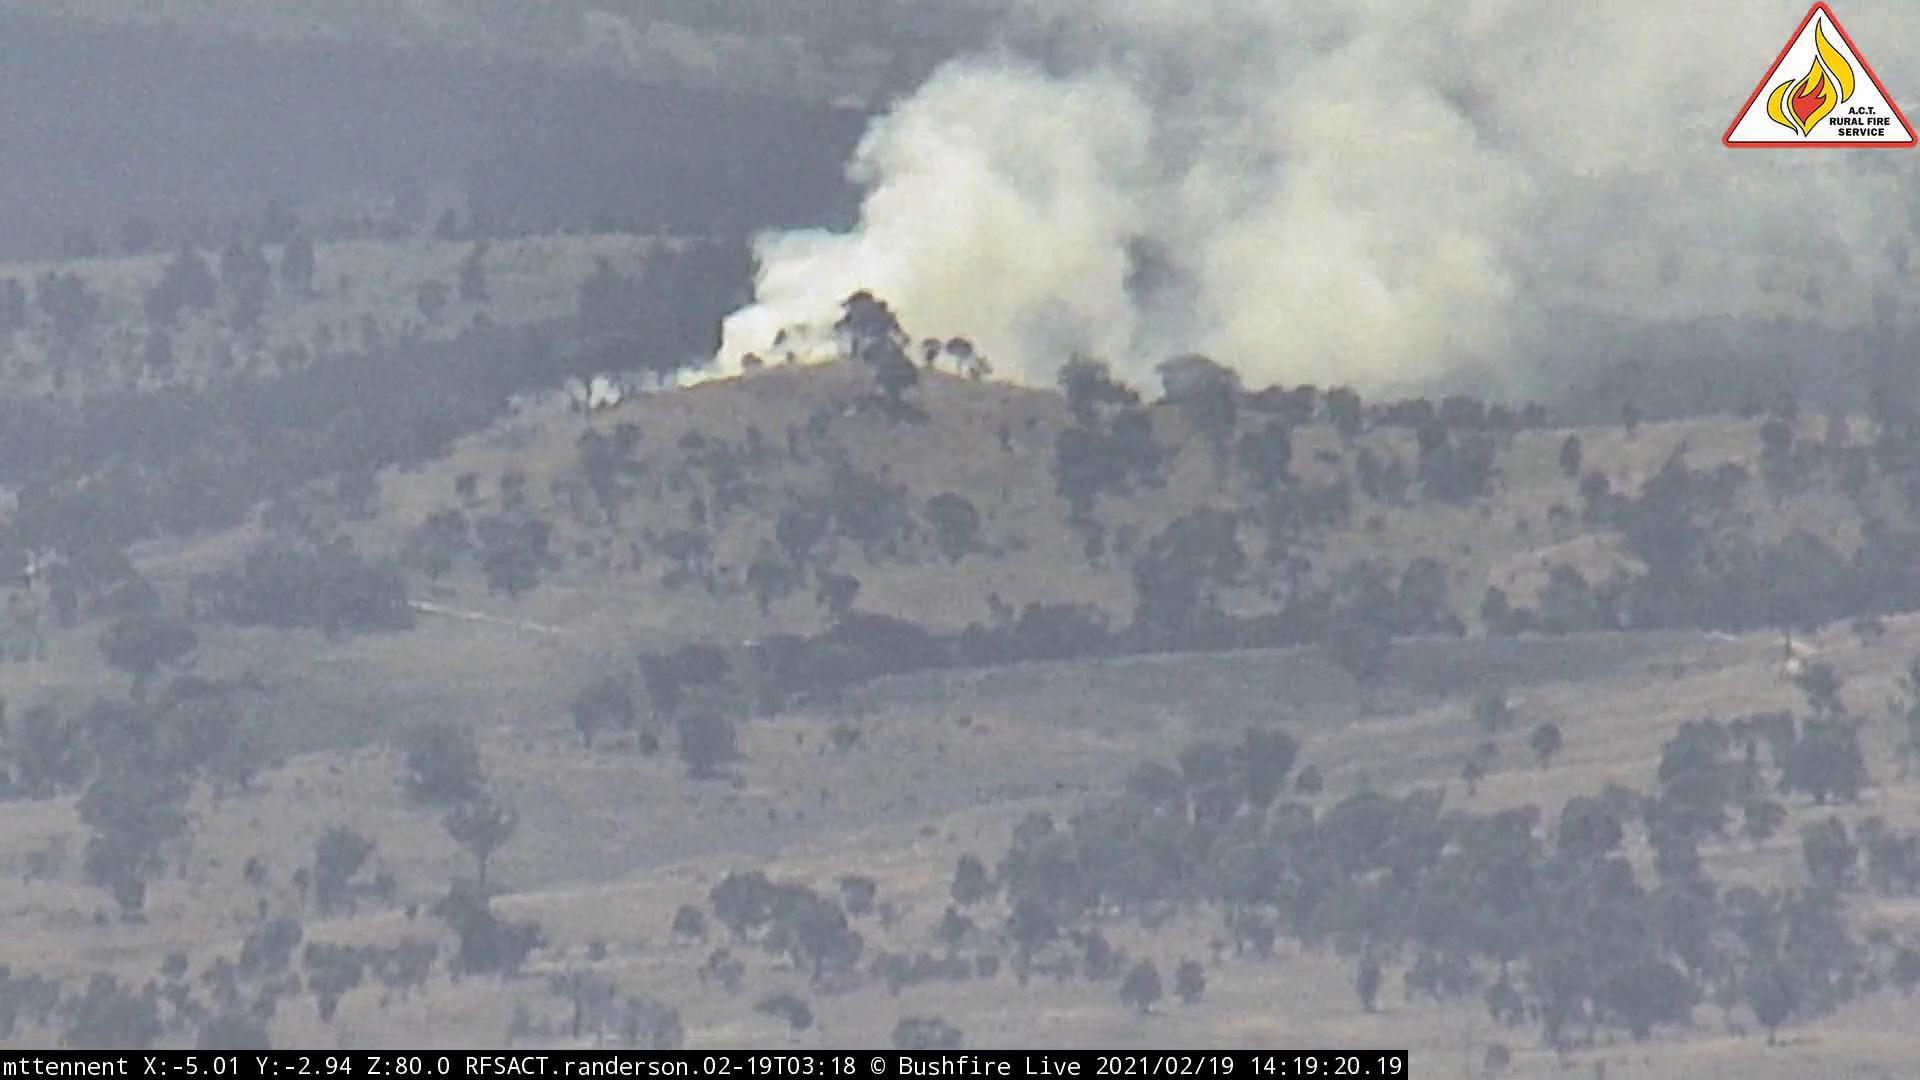Smoke: (603, 3, 1705, 407)
